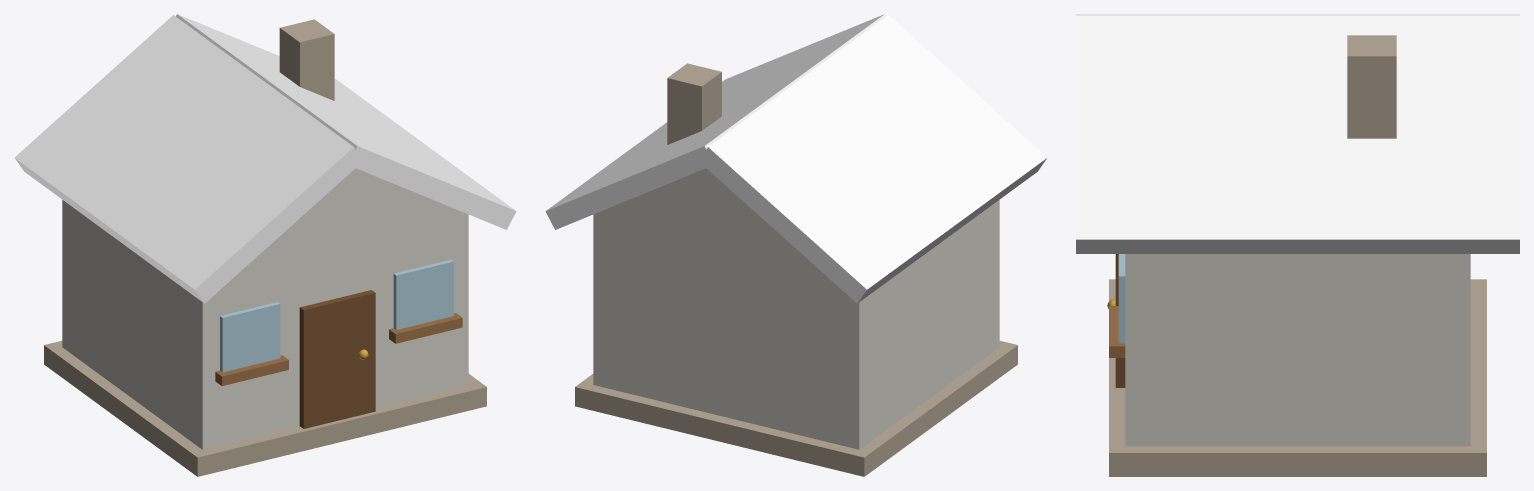
Rendered from prop_village_house_ph.glb.
3 renders of one model, left to right at view 1: azimuth 30°, elevation 25°; view 2: azimuth 150°, elevation 25°; view 3: azimuth 270°, elevation 25°, orthographic. The views are drawn at different scales.
Parts seen in each view (by area): view 1: prop_village_house; view 2: prop_village_house; view 3: prop_village_house.
Part boxes in pixels (x1,y1,x2,y2): prop_village_house: (14, 14, 516, 476); prop_village_house: (545, 14, 1047, 476); prop_village_house: (1076, 14, 1519, 476).
Size of the model in its own units: 2.78 by 2.6 by 2.7.
